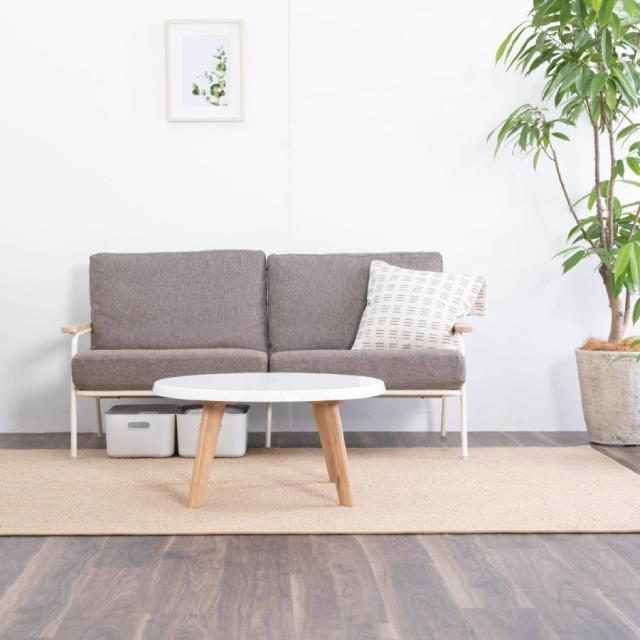white sofa: (74, 254, 482, 488)
